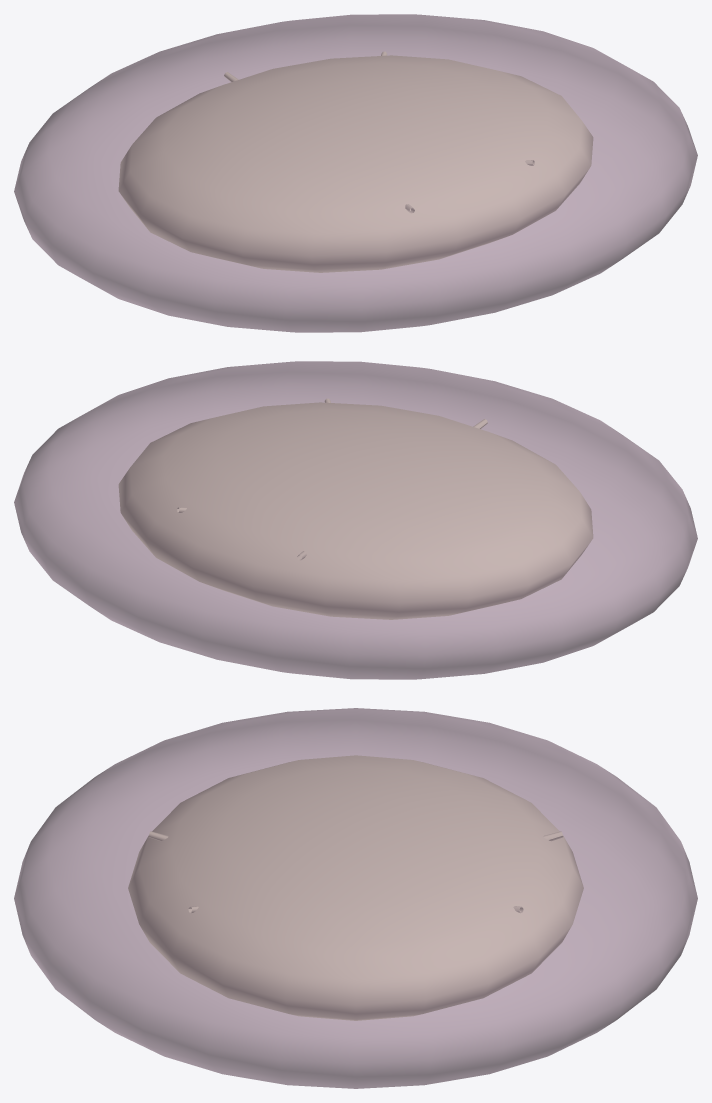
File: gang_root.glb
3 views of the same model, one above another, from view 1: azimuth 30°, elevation 25°; view 2: azimuth 150°, elevation 25°; view 3: azimuth 270°, elevation 25° (orthographic). The views are drawn at different scales.
Parts seen in each view (by area): view 1: MEMBRANE_shared_reservoir, MUSCLE_fused_knot; view 2: MEMBRANE_shared_reservoir, MUSCLE_fused_knot; view 3: MEMBRANE_shared_reservoir, MUSCLE_fused_knot.
Part boxes in pixels (bbox=[...]): MEMBRANE_shared_reservoir: bbox=[14, 14, 697, 332]; MUSCLE_fused_knot: bbox=[118, 55, 593, 272]; MEMBRANE_shared_reservoir: bbox=[14, 361, 697, 679]; MUSCLE_fused_knot: bbox=[118, 402, 593, 619]; MEMBRANE_shared_reservoir: bbox=[14, 708, 697, 1088]; MUSCLE_fused_knot: bbox=[128, 755, 583, 1020].
Bounding box in the file's own units: 0.48 × 0.13 × 0.42.
